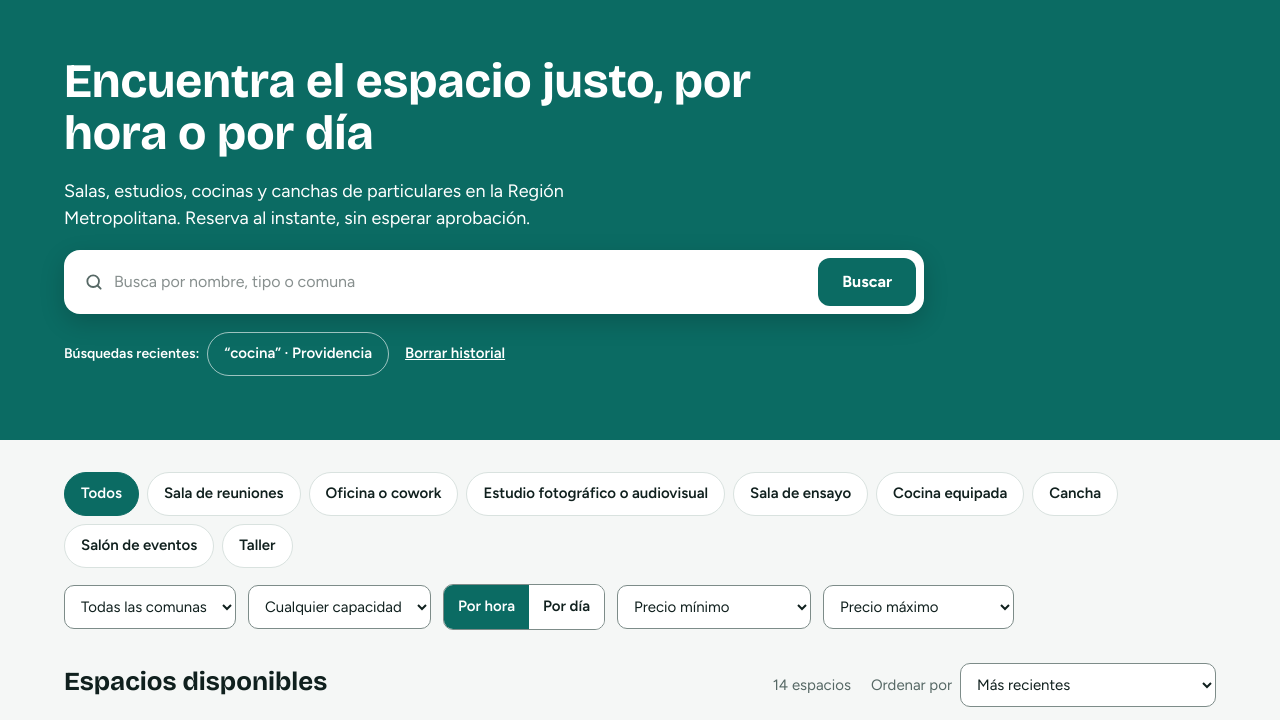
Test: CatalogPage: búsquedas recientes (BU-07) › repetir una búsqueda desde el panel aplica sus filtros y los deja en la URL
What coordinates should you click on to do the following:
click the link "“cocina” · Providencia"
I would click on:
 (298, 354)
Its box is [207, 332, 389, 376].
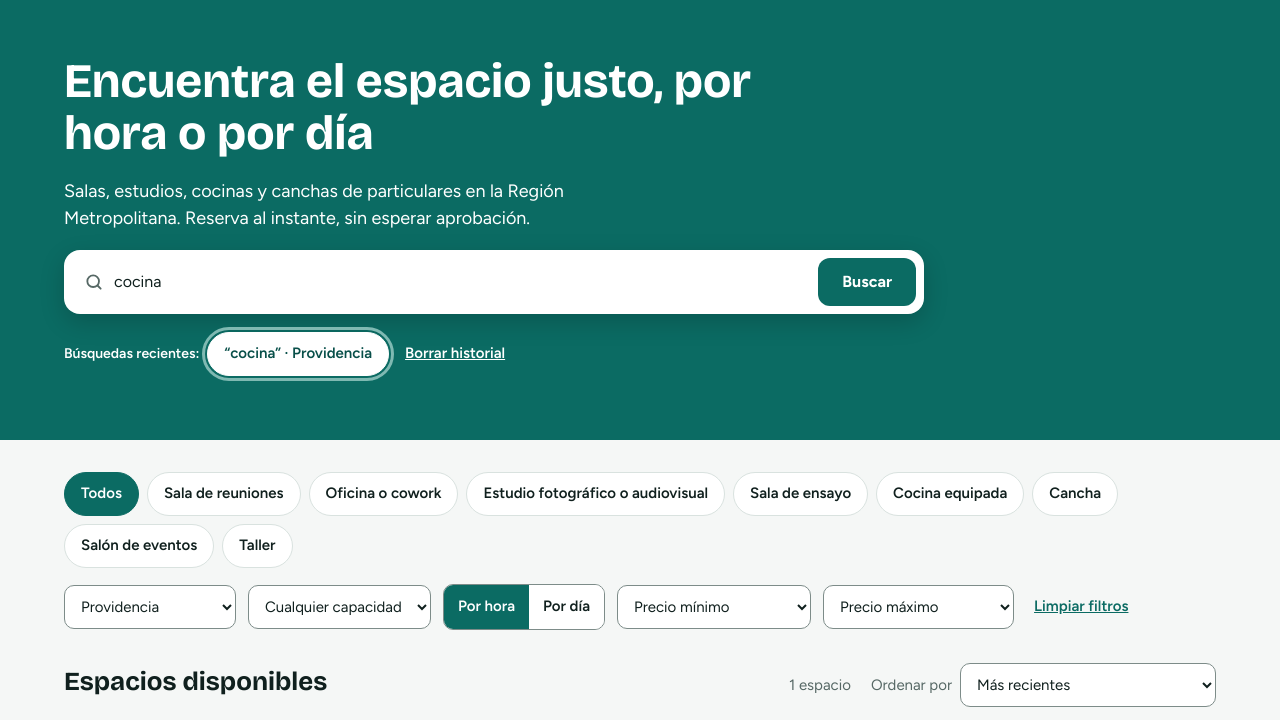
Now the search field named "Buscar espacios" holds "cocina", box [114, 258, 798, 306]
